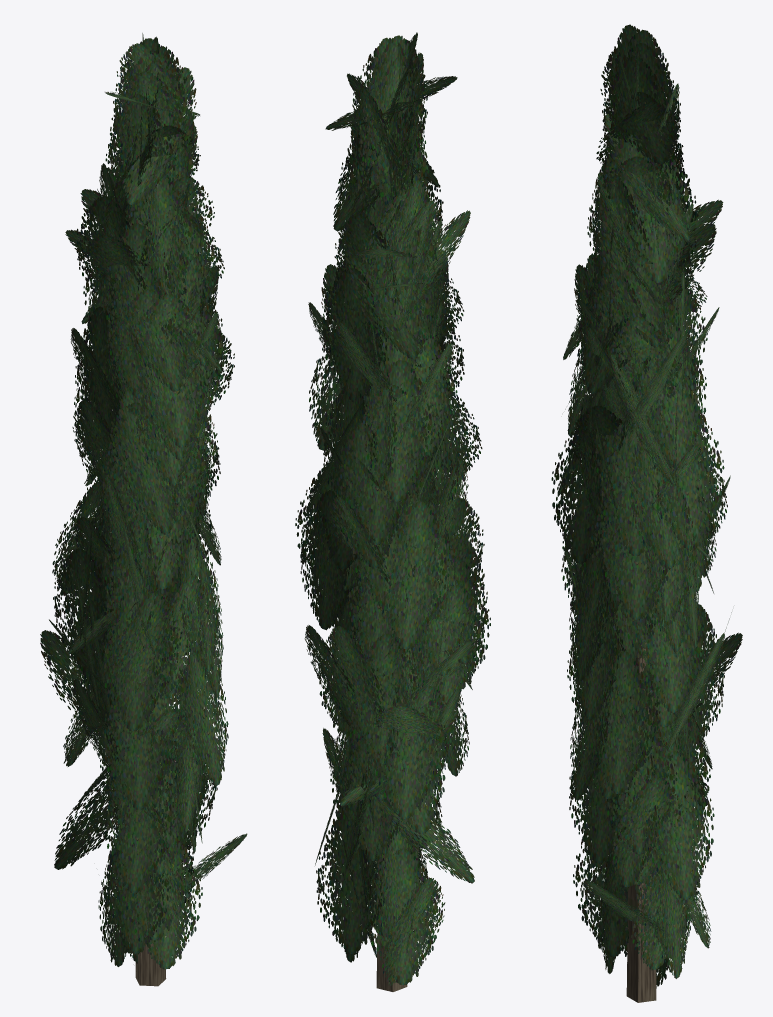
File: Tree_Cypress_1_LOD1.gltf
The picture shows the model from 3 angles, left to right: view 1: azimuth 30°, elevation 25°; view 2: azimuth 150°, elevation 25°; view 3: azimuth 270°, elevation 25°; orthographic projection.
Visible parts, largest first — view 1: Tree_Cypress_1_LOD1; view 2: Tree_Cypress_1_LOD1; view 3: Tree_Cypress_1_LOD1.
Part boxes in pixels (x1=…): Tree_Cypress_1_LOD1: x1=40, y1=33, x2=247, y2=986; Tree_Cypress_1_LOD1: x1=295, y1=32, x2=490, y2=991; Tree_Cypress_1_LOD1: x1=551, y1=24, x2=742, y2=1002.
Bounding box in the file's own units: 4.16 × 19.3 × 4.07.
Materials: 2 (2 with a texture image).
